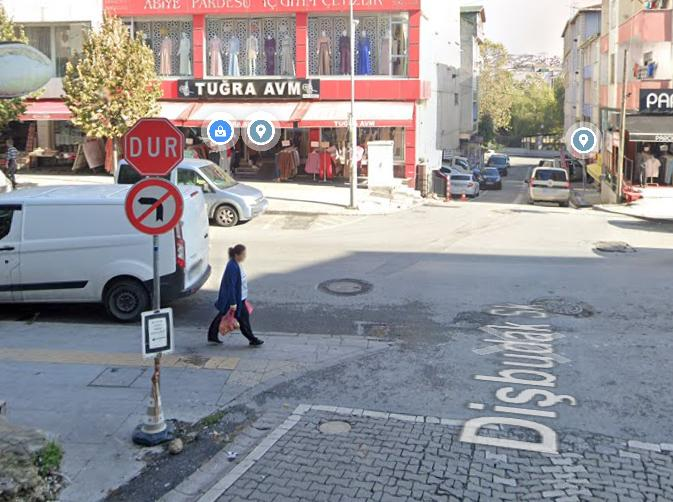leftturnsareforbidden: (126, 180, 181, 235)
stop: (126, 117, 182, 172)
